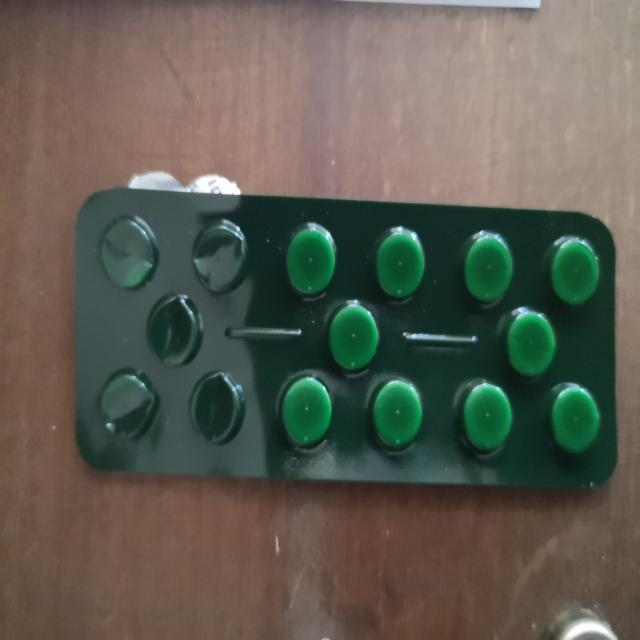Empty: (90, 362, 156, 442), (185, 366, 249, 448), (95, 213, 162, 291), (141, 288, 201, 370), (187, 216, 247, 296)
Pill: (268, 367, 336, 455), (454, 222, 517, 306), (366, 375, 429, 459), (454, 375, 515, 458), (369, 222, 429, 306), (544, 231, 606, 309), (541, 378, 604, 454), (279, 220, 338, 299), (500, 308, 555, 378), (326, 301, 380, 372)
